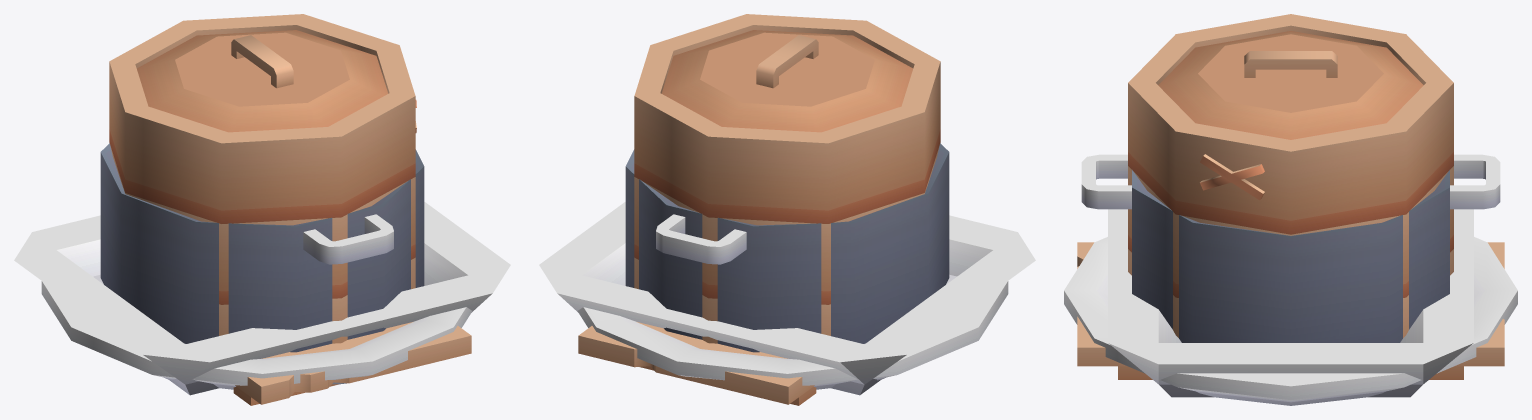
File: izakaya.glb
The picture shows the model from 3 angles, left to right: view 1: azimuth 30°, elevation 25°; view 2: azimuth 150°, elevation 25°; view 3: azimuth 270°, elevation 25°; orthographic projection. The views are drawn at different scales.
Visible parts, largest first — view 1: layer (×3), pot-stew, plate-rectangle, lid, plate, cutting-board-japanese; view 2: layer (×3), pot-stew, plate-rectangle, lid, plate, cutting-board-japanese; view 3: layer (×3), pot-stew, lid, plate-rectangle, plate, cutting-board-japanese.
Part boxes in pixels (bbox=[...]): layer (×3): bbox=[109, 14, 416, 343]; pot-stew: bbox=[100, 143, 424, 352]; plate-rectangle: bbox=[14, 202, 510, 395]; lid: bbox=[137, 30, 388, 132]; plate: bbox=[41, 276, 472, 389]; cutting-board-japanese: bbox=[233, 322, 471, 405]; layer (×3): bbox=[634, 14, 940, 343]; pot-stew: bbox=[625, 143, 949, 352]; plate-rectangle: bbox=[539, 202, 1035, 395]; lid: bbox=[661, 30, 912, 132]; plate: bbox=[577, 276, 1008, 389]; cutting-board-japanese: bbox=[578, 322, 816, 405]; layer (×3): bbox=[1128, 14, 1453, 337]; pot-stew: bbox=[1081, 154, 1500, 342]; lid: bbox=[1158, 31, 1423, 139]; plate-rectangle: bbox=[1108, 209, 1473, 397]; plate: bbox=[1064, 237, 1517, 405]; cutting-board-japanese: bbox=[1077, 242, 1504, 379].
Size of the model in its own units: 0.8918 by 0.6 by 0.8918.
Materials: 1 (1 with a texture image).
